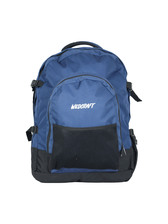bag: (25, 39, 142, 186)
